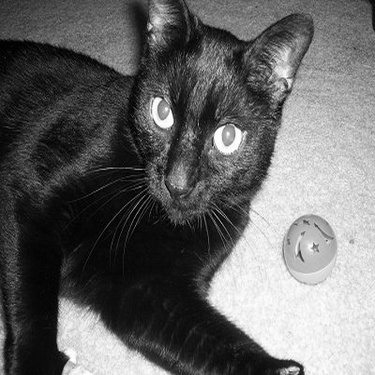cat: (1, 3, 315, 373)
